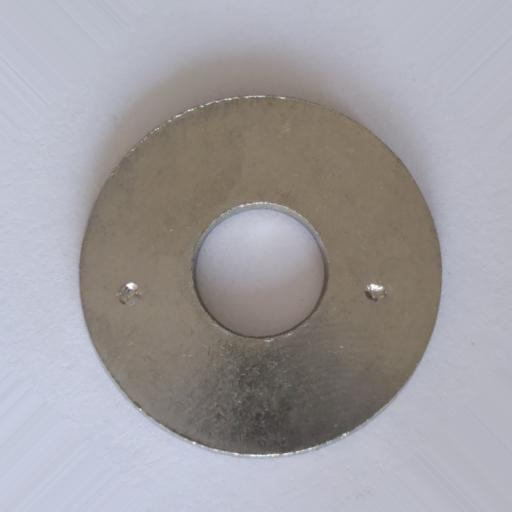circular_cavity: (117, 281, 143, 306), (365, 282, 387, 301)
